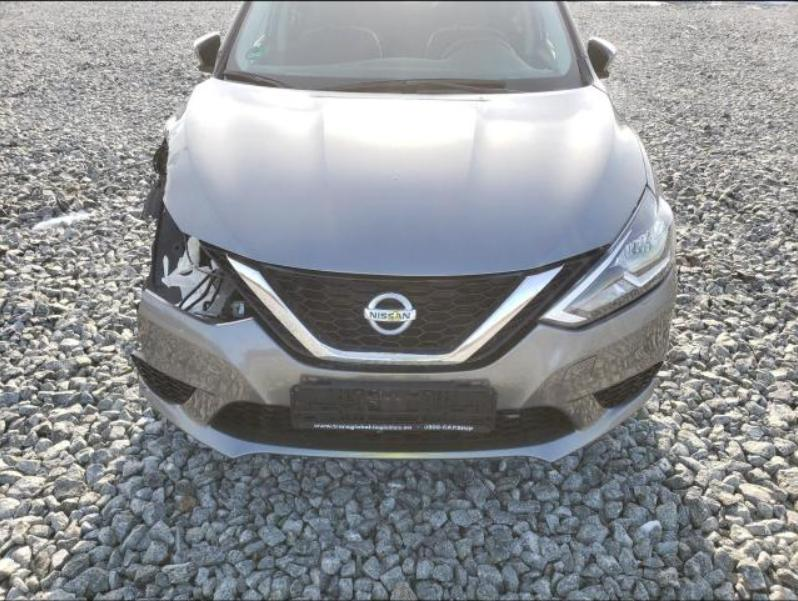Fender: (633, 128, 666, 202)
Front-bumper: (133, 264, 677, 462)
Grille: (201, 246, 607, 373), (208, 401, 573, 453)
Headlight: (540, 188, 675, 326)
Hood: (163, 76, 647, 276)
License-plate: (290, 385, 498, 431)
Mirror: (195, 33, 220, 76), (589, 38, 615, 77)
Windshield: (213, 2, 593, 94)
